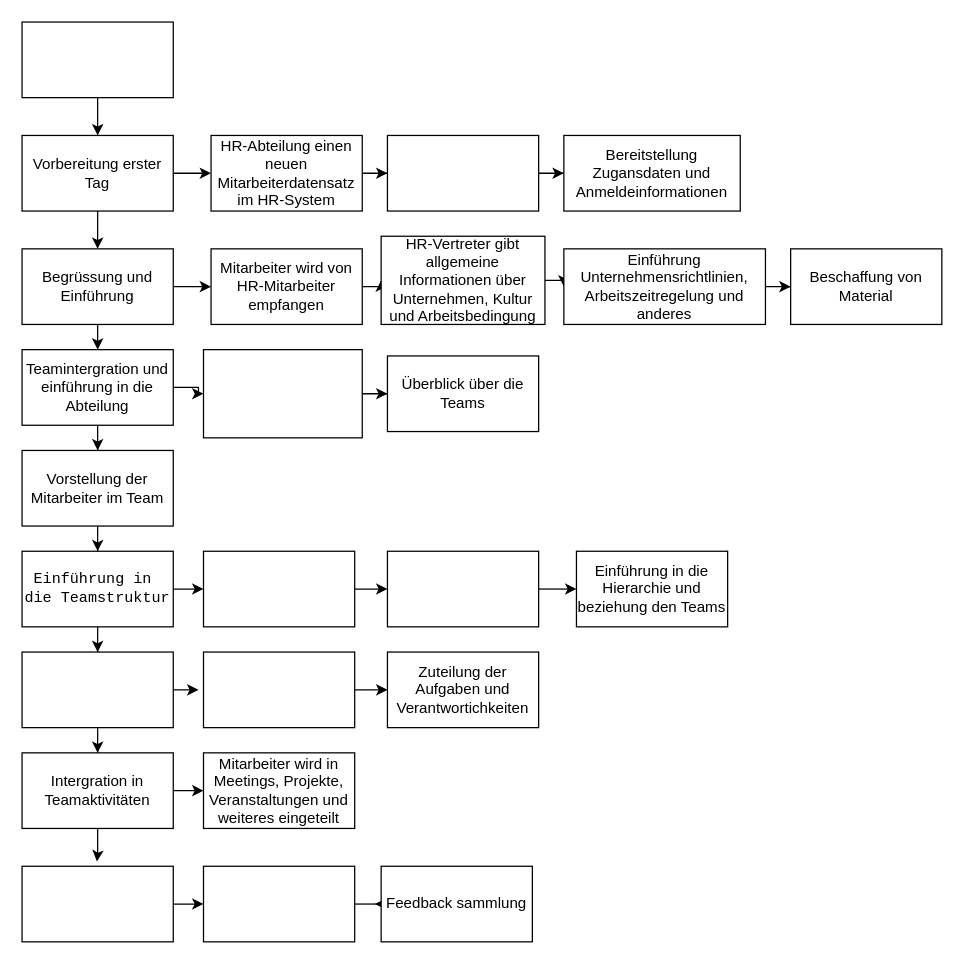
This 964x964 diagram has some shape labels left out. The centre of each missing label's shape, as x and y in pixels:
"Allgemeine Einführung in die Teamstruktur" goes at (x=278, y=588).
"Erklärung der Aufgaben und Verantwortlichkeit" goes at (x=97, y=689).
"Evaluierung und Feedback" goes at (x=97, y=903).
"Mitarbeiter gespräch wird durchgeführt" goes at (x=278, y=903).
"Neuer Mitarbeiter" goes at (x=97, y=59).
"Rolleneintellung" goes at (x=462, y=588).
"Teammitglieder erzählen ihre Aufgaben und Verantwortlichkeiten" goes at (x=278, y=689).
"Vorstellugung des neuen Mitarbeiters im Team und Einführung der Teammitglieder" goes at (x=282, y=393).
"Zugriffsrechte aufs System erteilen" goes at (x=462, y=172).
